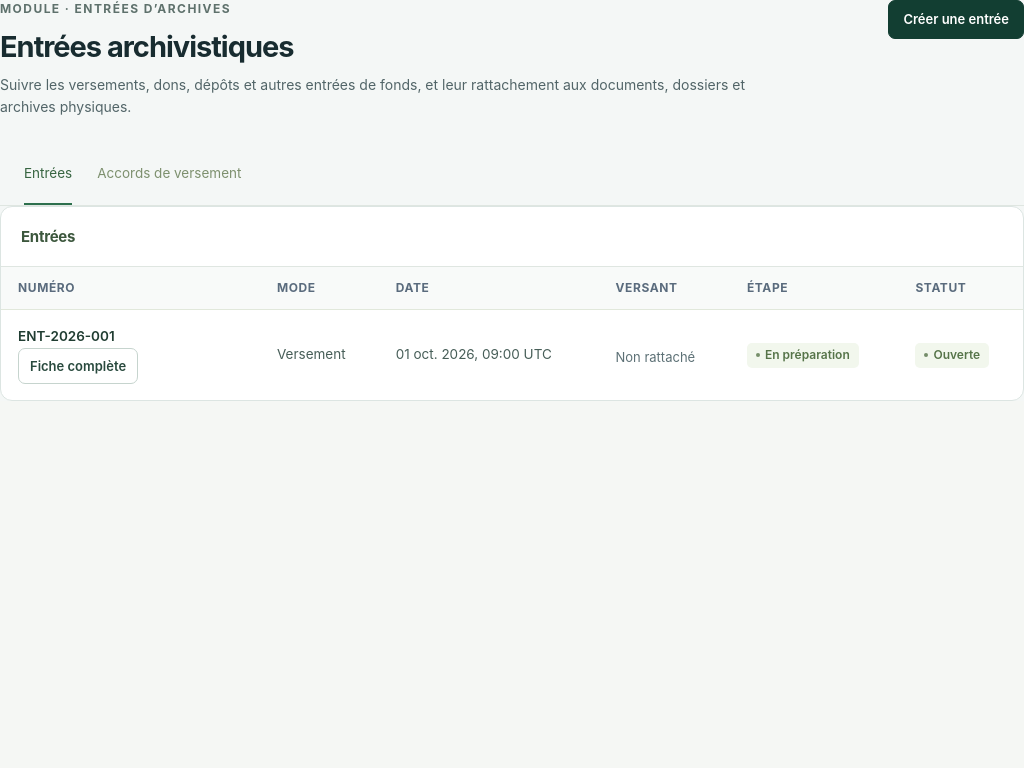
soumettre est bloqué tant que le bordereau est vide, avec la raison
The image size is (1024, 768).
Click the button "ENT-2026-001" at (113, 337), box 18,326 -> 208,348
(page scrolled)
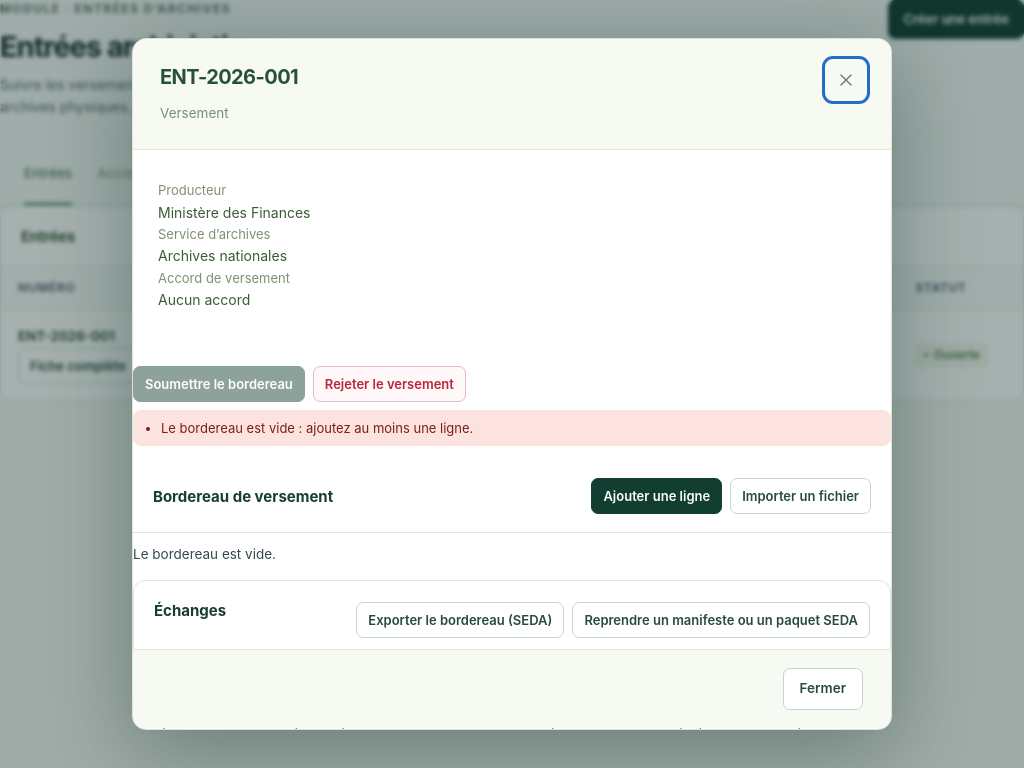
Now the list item "Le bordereau est vide : ajoutez au moins une ligne." is shown, box 161,420 -> 473,436
Now the button "Soumettre le bordereau" is disabled, box 133,366 -> 305,402
